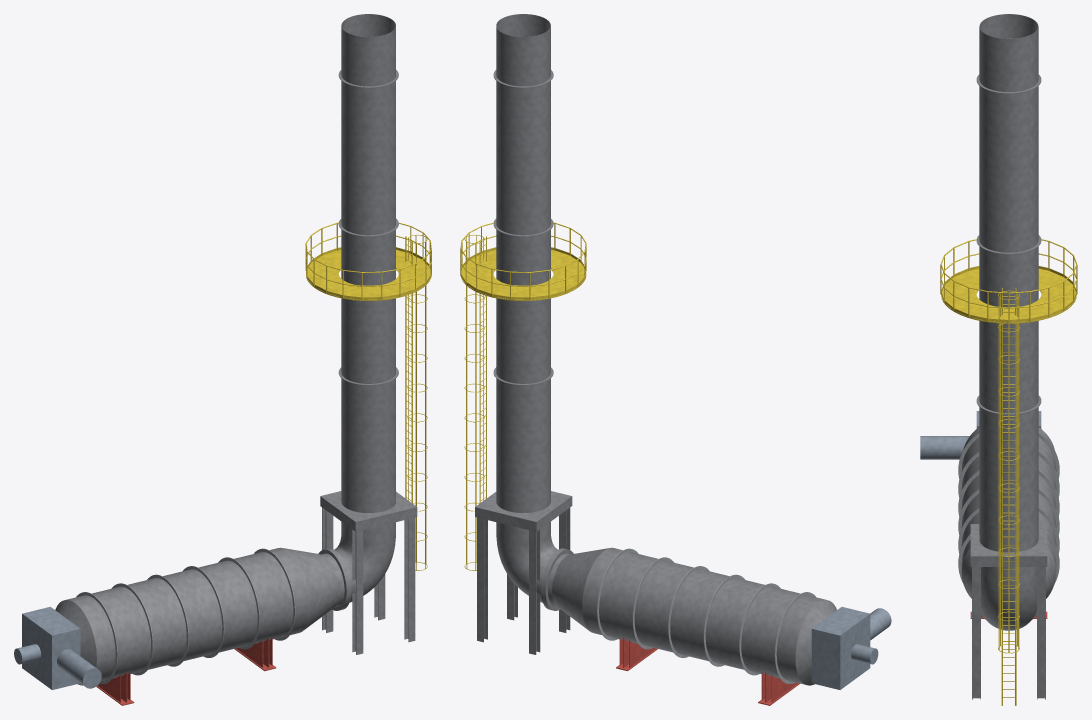
The model's file is thermal-oxidizer-shells-and-stacks.glb.
The picture shows the model from 3 angles, left to right: view 1: azimuth 30°, elevation 25°; view 2: azimuth 150°, elevation 25°; view 3: azimuth 270°, elevation 25°; orthographic projection. The views are drawn at different scales.
Parts seen in each view (by area): view 1: Stack&Support, CombustionChamberShell, Platform&Ladder, Transition&ExpansionJoint, Burner&AirPlenum(context), StiffenerRings, Saddles; view 2: Stack&Support, CombustionChamberShell, Platform&Ladder, Transition&ExpansionJoint, Burner&AirPlenum(context), StiffenerRings, Saddles; view 3: Stack&Support, Platform&Ladder, Transition&ExpansionJoint, CombustionChamberShell, StiffenerRings, Burner&AirPlenum(context).
Part boxes in pixels (x1,y1,x2,y2): Stack&Support: (320,14,417,654); CombustionChamberShell: (55,548,309,685); Platform&Ladder: (305,222,431,570); Transition&ExpansionJoint: (280,497,395,631); Burner&AirPlenum(context): (14,606,101,689); StiffenerRings: (76,548,295,683); Saddles: (96,638,276,705); Stack&Support: (475,14,572,654); CombustionChamberShell: (582,548,836,685); Platform&Ladder: (460,222,586,570); Transition&ExpansionJoint: (496,497,612,632); Burner&AirPlenum(context): (811,607,891,689); StiffenerRings: (597,548,815,683); Saddles: (616,637,799,705); Stack&Support: (970,14,1047,699); Platform&Ladder: (940,239,1077,705); Transition&ExpansionJoint: (961,535,1056,630); CombustionChamberShell: (961,427,1056,571); StiffenerRings: (958,433,1059,583); Burner&AirPlenum(context): (920,411,1041,459).
Bounding box in the file's own units: 17.23 × 24.6 × 5.32.
5 materials, 5 textured.
